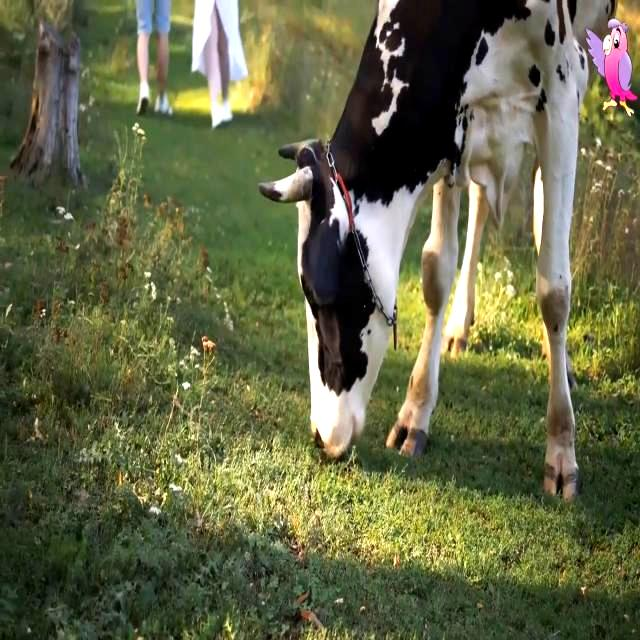COW: (259, 0, 615, 499)
